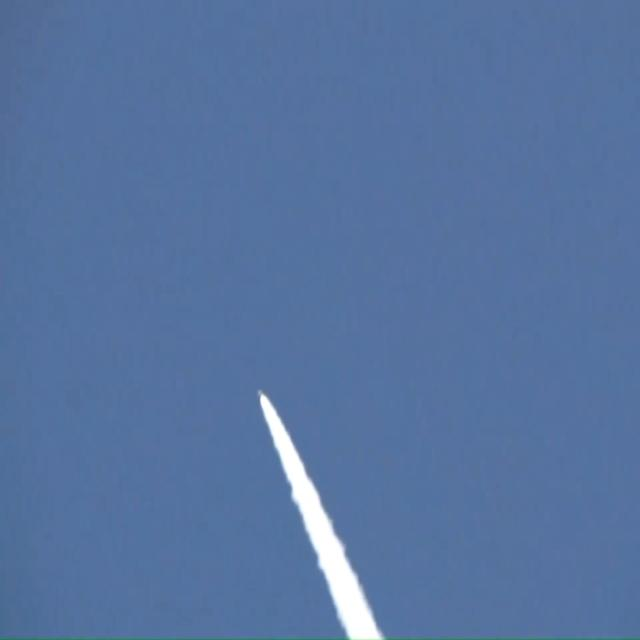Rocket: (258, 390, 262, 398)
